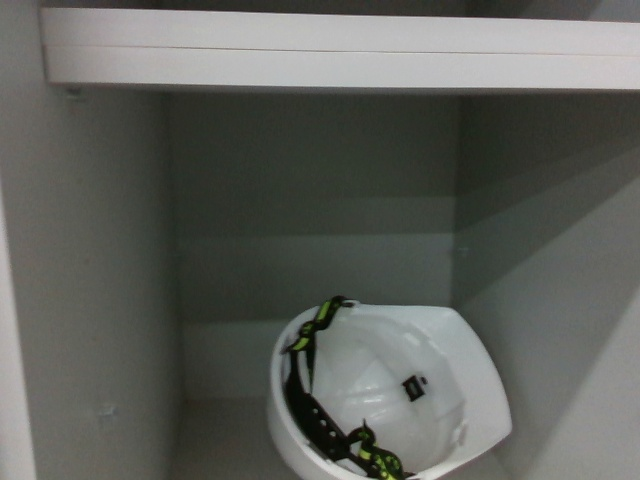helmet: (262, 287, 521, 480)
